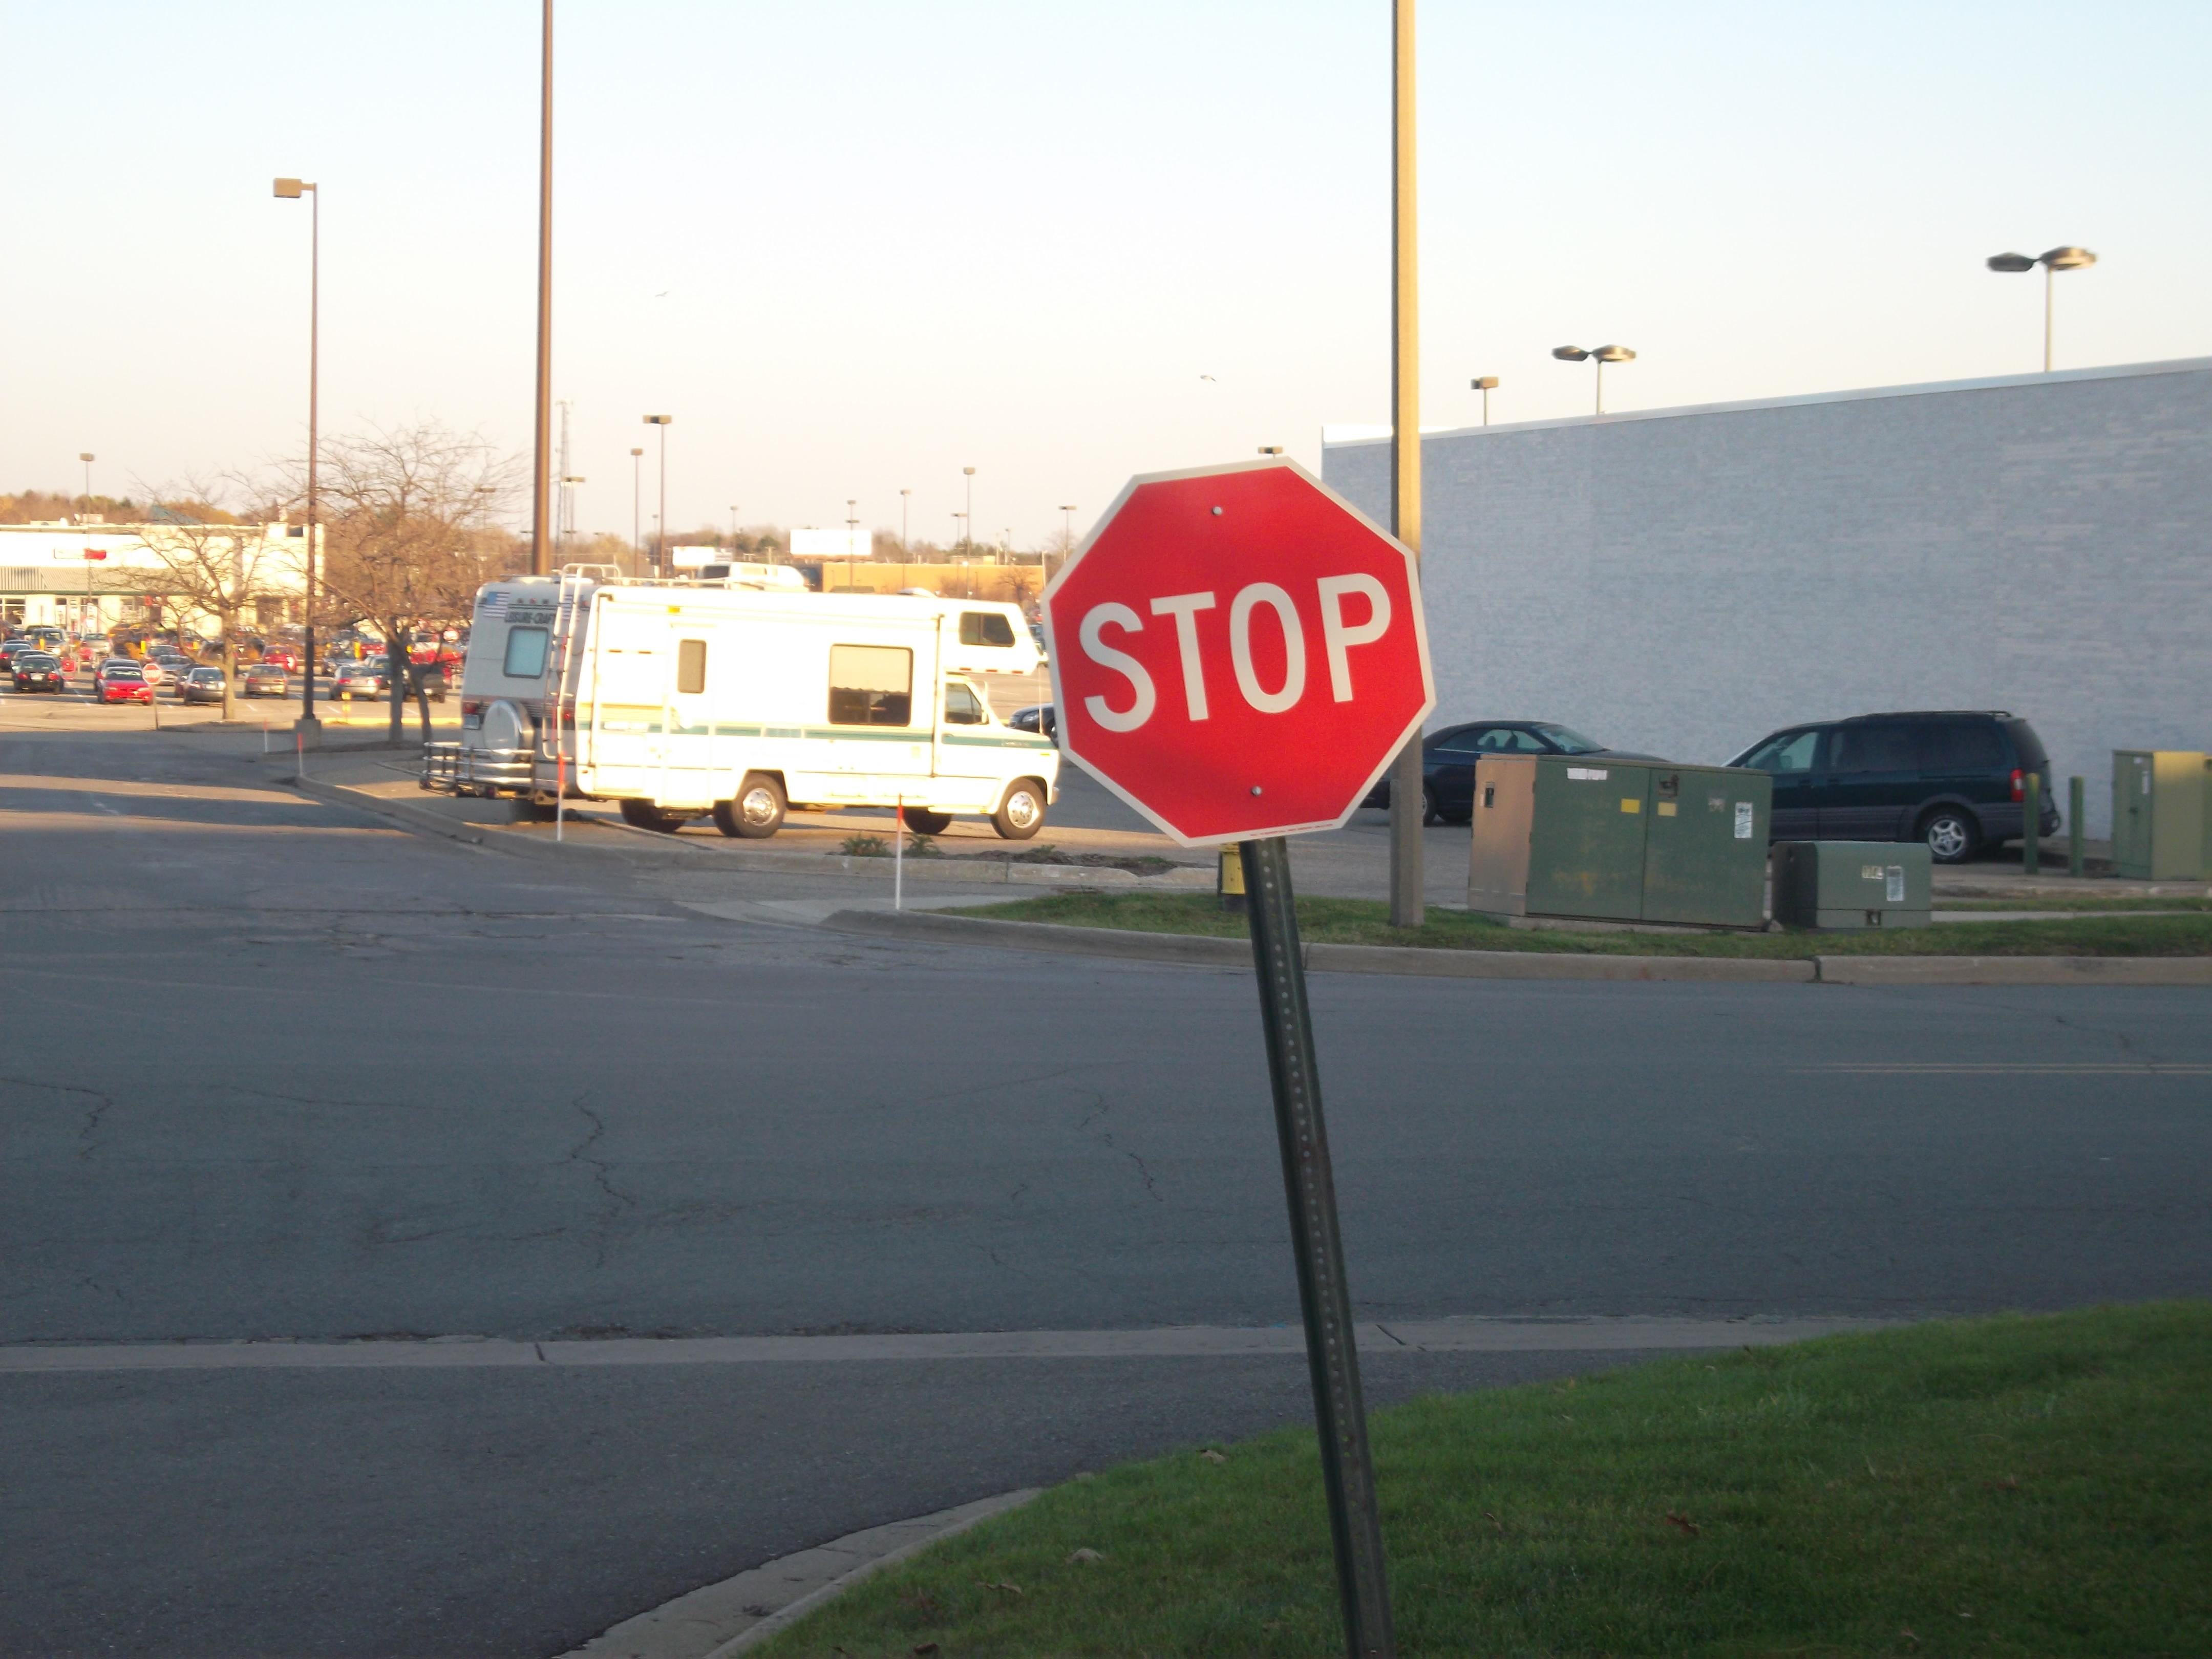stop: (1031, 451, 1463, 859)
